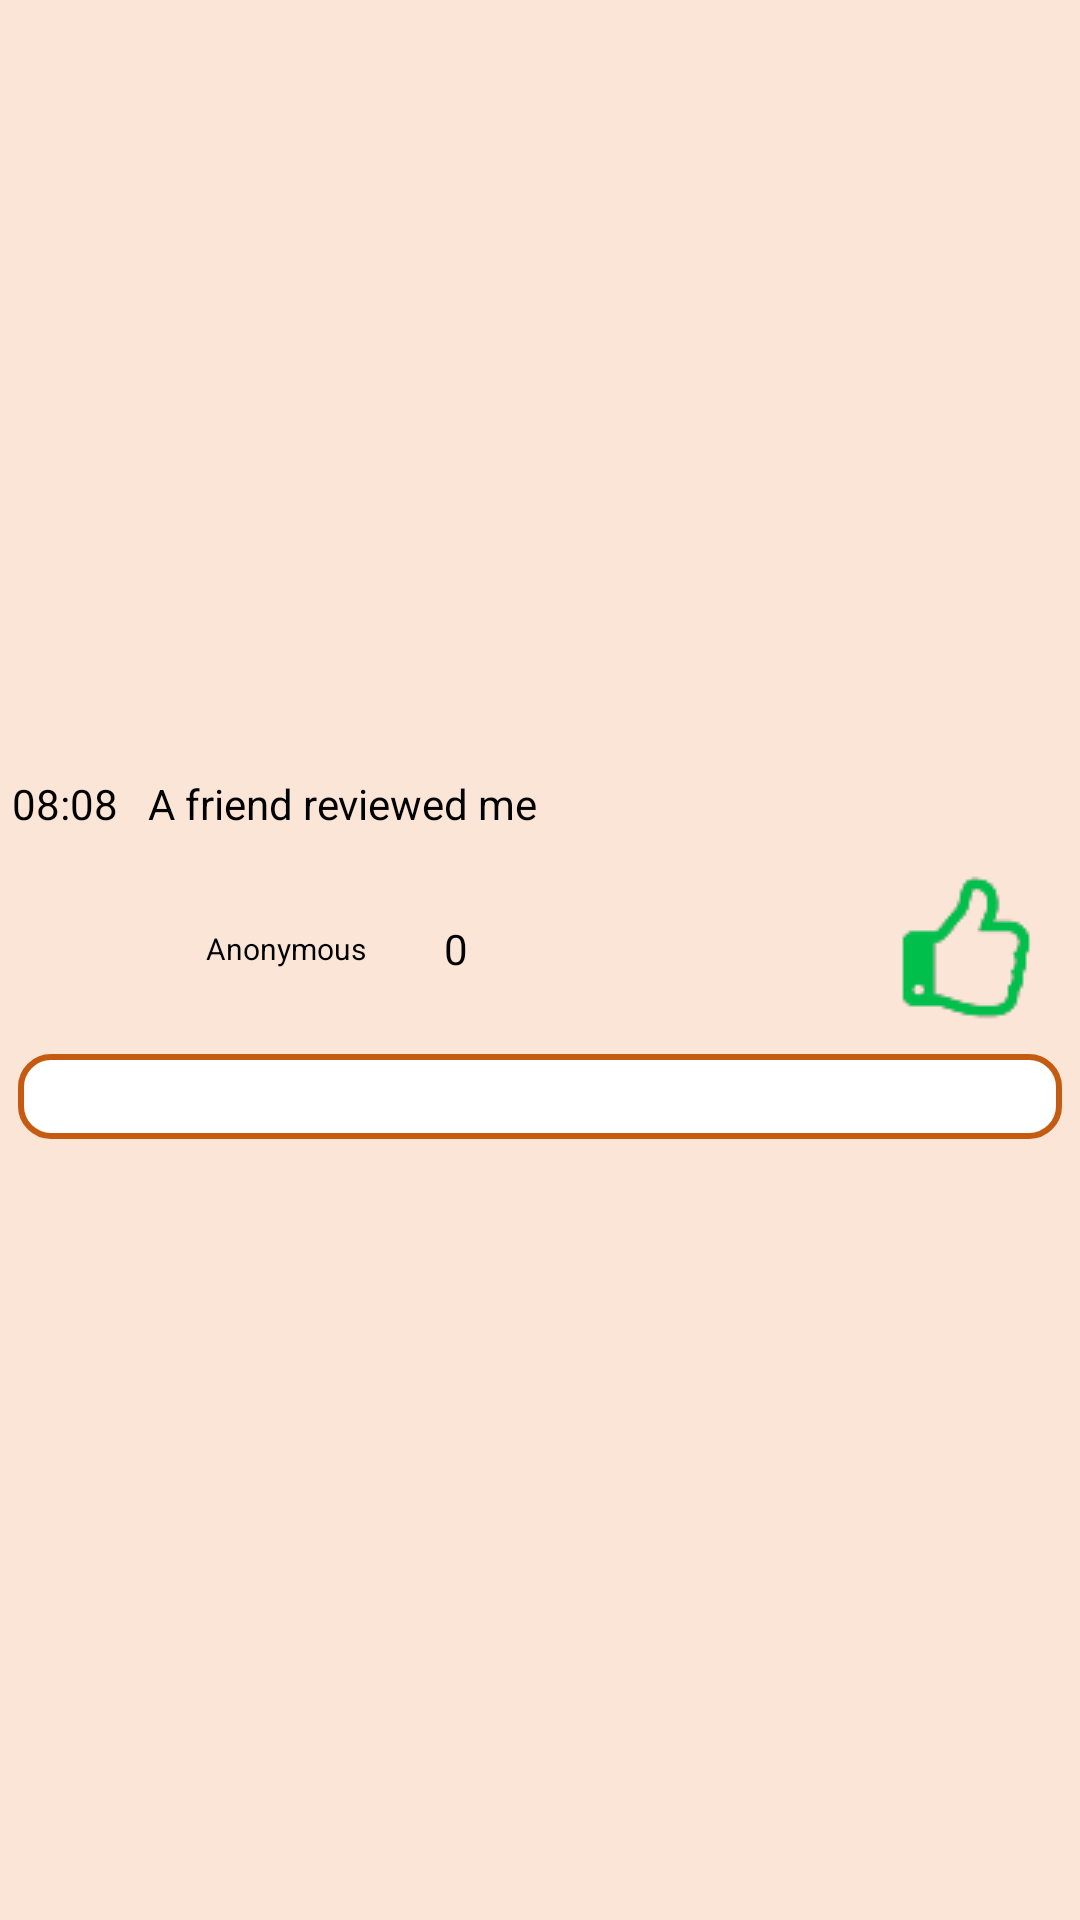

Locate icon controls on the screen. Image size 1080 x 1920, boxes as (x1, y1, x2, y2).
good: (902, 877, 1030, 1018)
